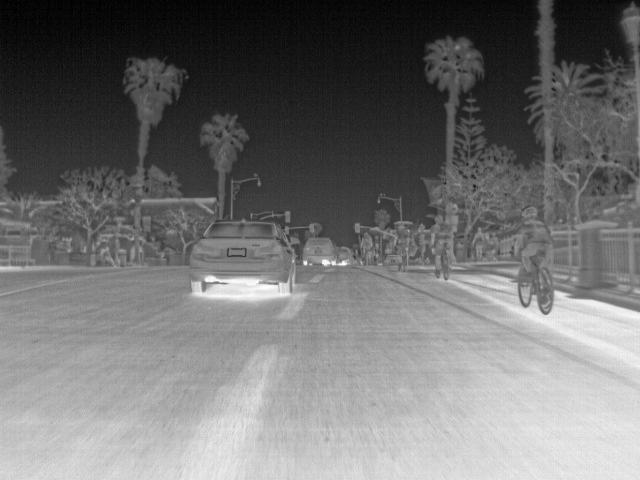car: (190, 218, 297, 296), (299, 236, 336, 266), (335, 248, 353, 266), (360, 246, 375, 264)
person: (517, 208, 557, 303), (429, 216, 455, 266), (358, 228, 379, 262), (470, 227, 487, 261), (489, 230, 503, 260), (484, 234, 498, 262)
